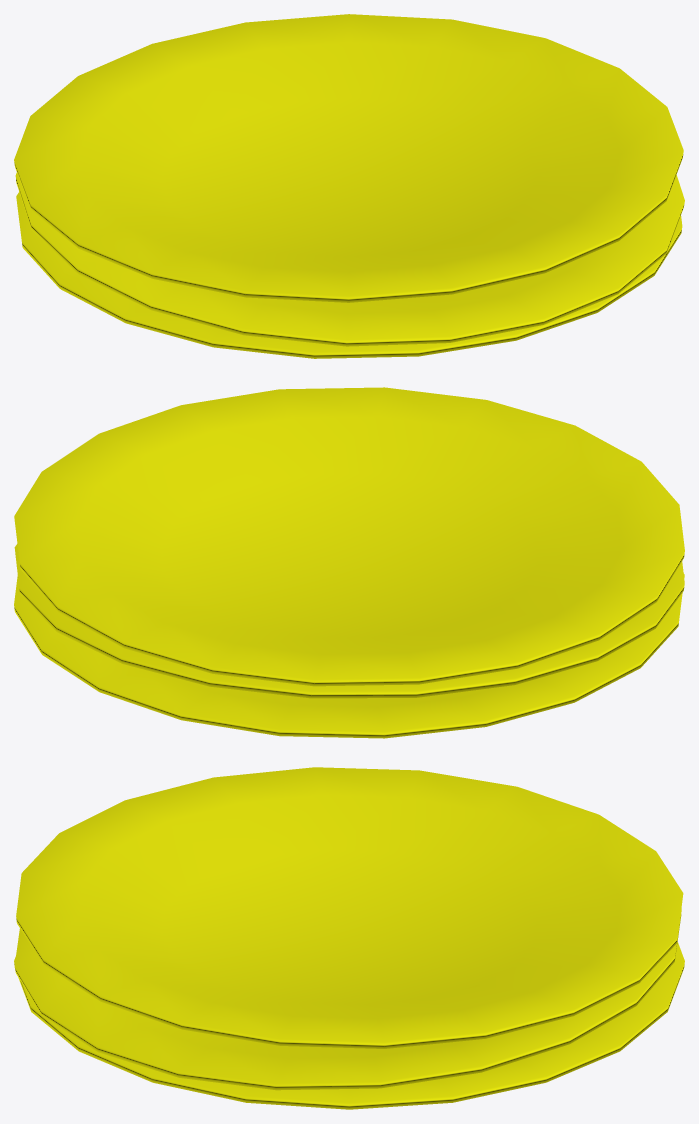
File: Plate_Pile_01_Lod0.fbx
3 renders of one model, top to bottom at view 1: azimuth 30°, elevation 25°; view 2: azimuth 150°, elevation 25°; view 3: azimuth 270°, elevation 25°, orthographic.
Visible parts, largest first — view 1: Plate_Pile_01_Lod0; view 2: Plate_Pile_01_Lod0; view 3: Plate_Pile_01_Lod0.
Part boxes in pixels (x1=…): Plate_Pile_01_Lod0: x1=14, y1=14, x2=684, y2=358; Plate_Pile_01_Lod0: x1=14, y1=387, x2=684, y2=738; Plate_Pile_01_Lod0: x1=14, y1=767, x2=684, y2=1109.
Size of the model in its own units: 28.93 by 5.3 by 28.93.
